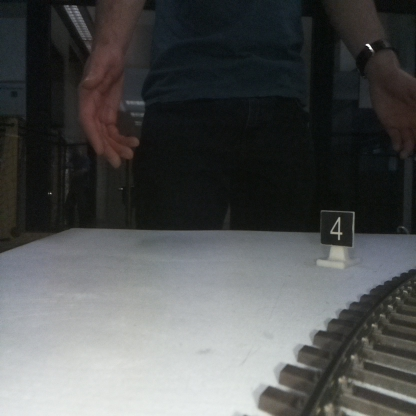black-stop-4: (320, 210, 353, 267)
